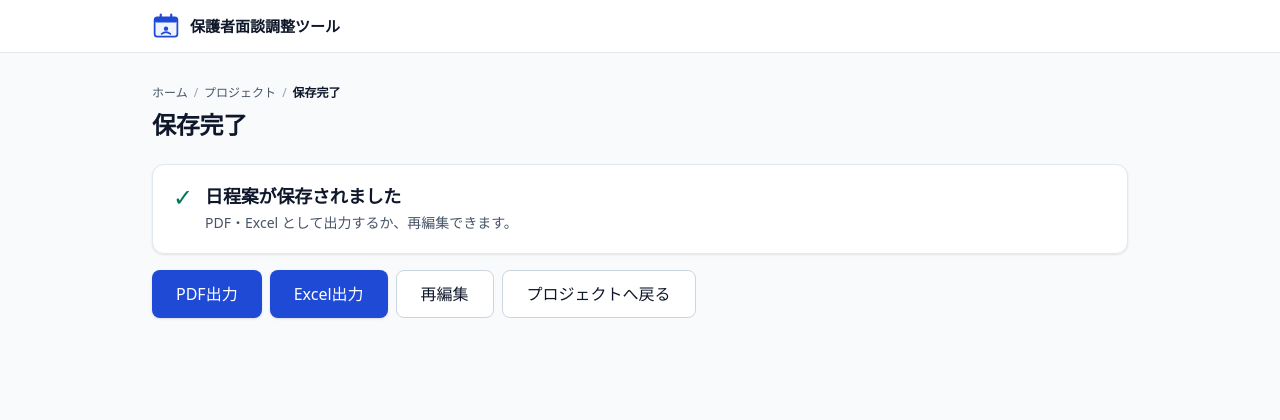
Test: SavedPage › PDF取得失敗時にエラー表示が出る
This screenshot has width=1280, height=420.
Click the button "PDF出力".
click(207, 294)  # box [152,270,262,318]
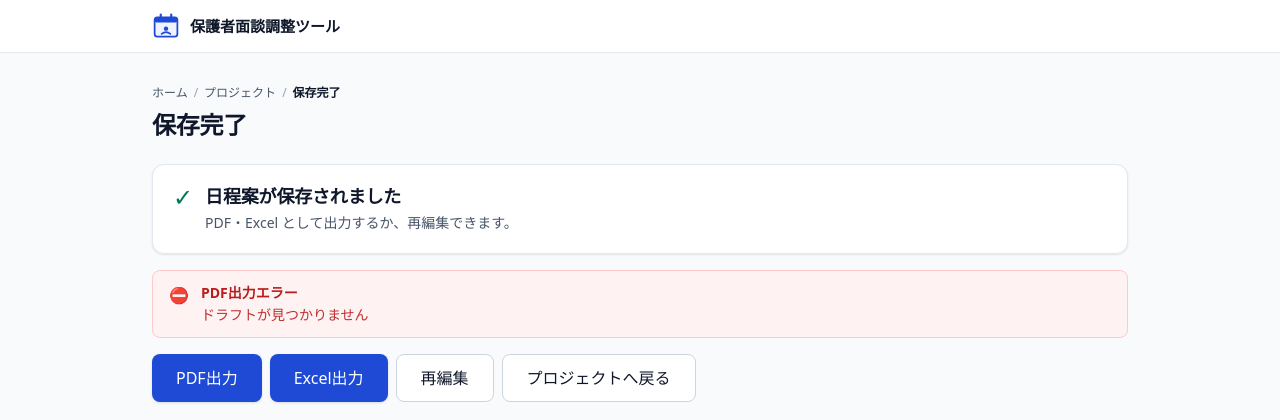
Expected: the message "⛔ PDF出力エラー ドラフトが見つかりません" is shown, [152,270,1128,338]
